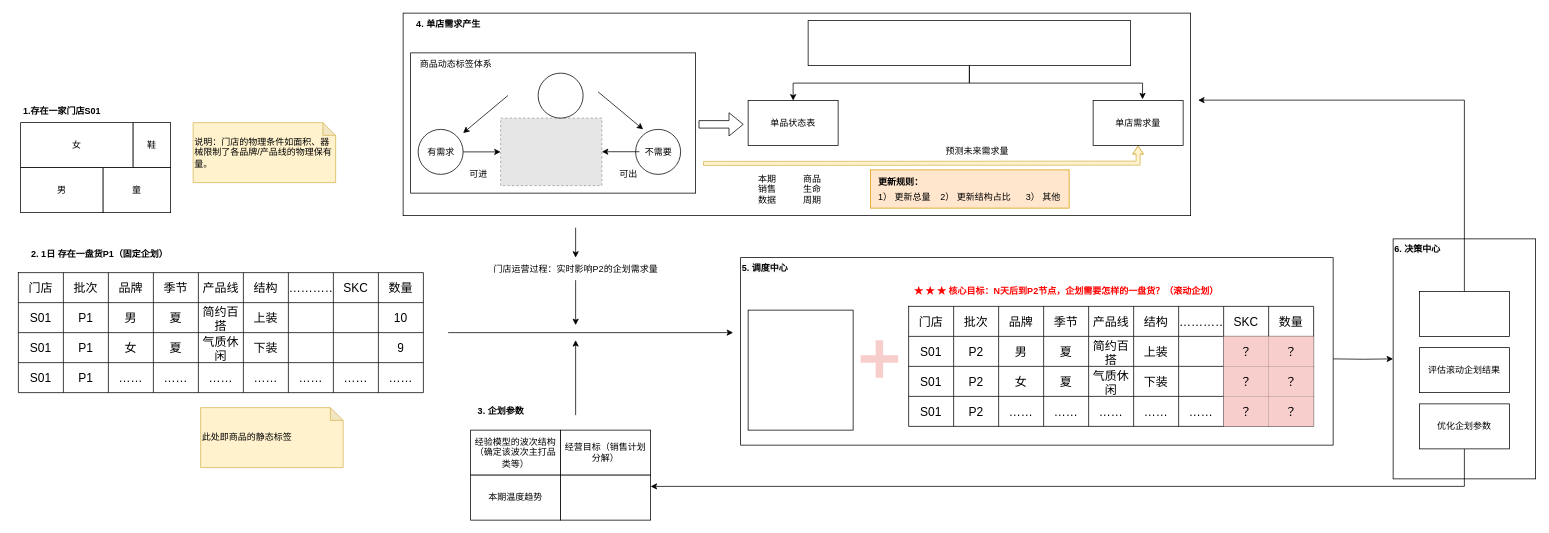
Some shapes in this 1549 by 533 pixel diagram are drawn without their labels. Grey dashed boxes stand in for pictures. Here are the shapes that lost their labels. From the top down, the box of each, then its label:
(807, 20, 1131, 66): 动作策略配置表
(537, 72, 583, 118): 销售情况
(1419, 291, 1509, 336): 监控门店运营指标
(747, 309, 853, 430): 需要执行退补调 动作的商品
(560, 474, 651, 520): 波段规划量（已采购量）
